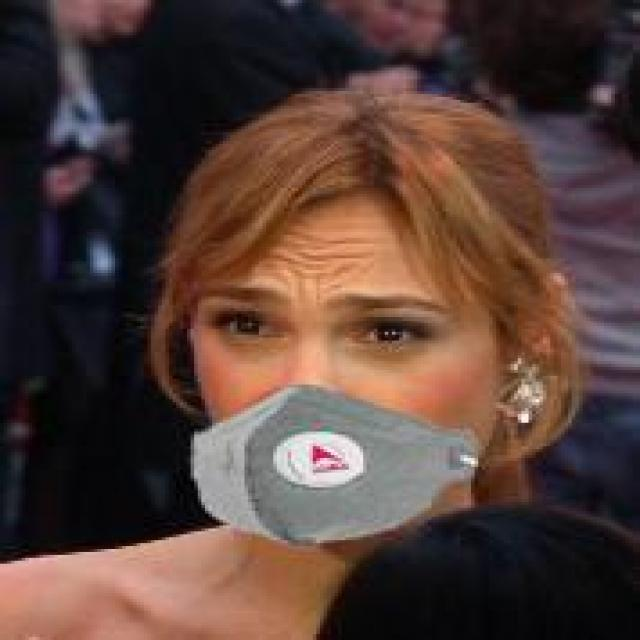mask: (158, 106, 547, 566)
